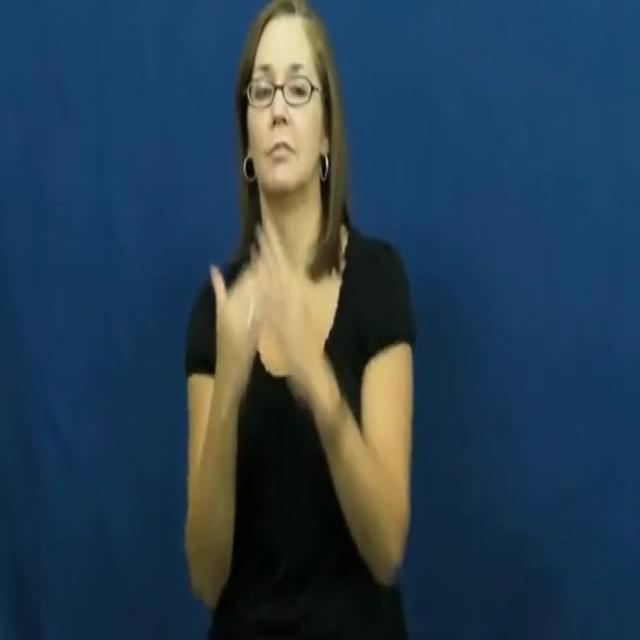sandwich: (204, 214, 335, 422)
